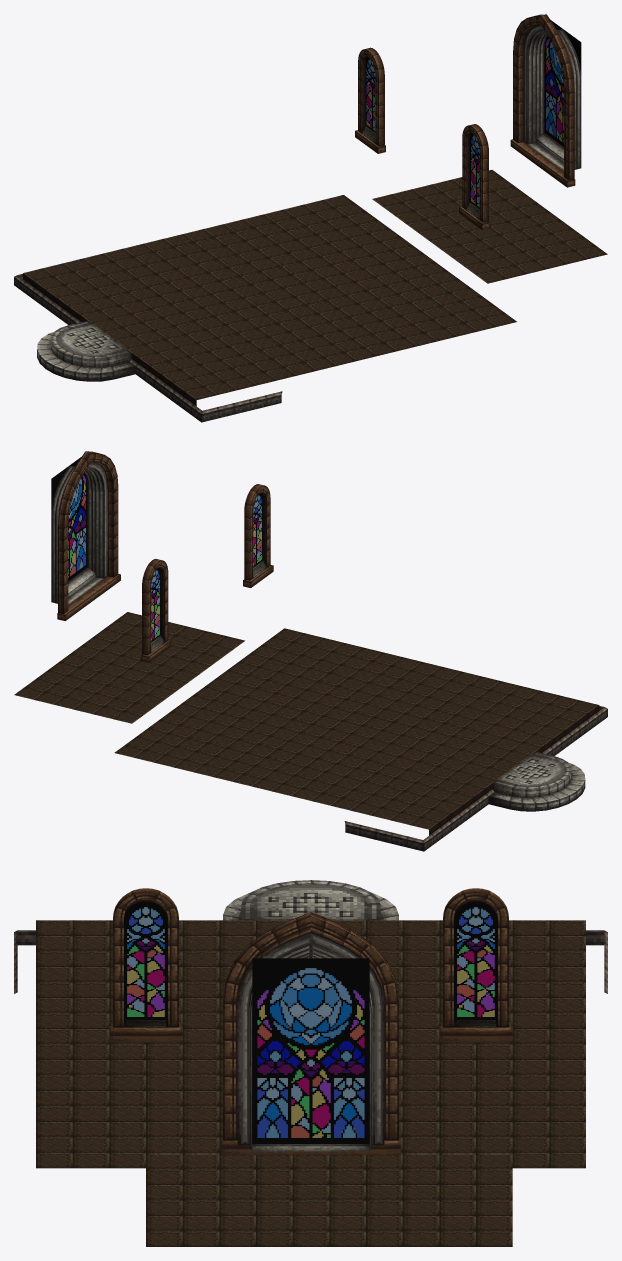
The model's file is EnvBdgMD_Church_Mount_C_Indoor_Floor.FBX.
3 views of the same model, one above another, from view 1: azimuth 30°, elevation 25°; view 2: azimuth 150°, elevation 25°; view 3: azimuth 270°, elevation 25° (orthographic). The views are drawn at different scales.
Visible parts, largest first — view 1: EnvBdgMD_Church_Mount_C_Indoor_Floor; view 2: EnvBdgMD_Church_Mount_C_Indoor_Floor; view 3: EnvBdgMD_Church_Mount_C_Indoor_Floor.
Boxes of the visible parts, <box> form: EnvBdgMD_Church_Mount_C_Indoor_Floor: <box>14,14,607,422</box>; EnvBdgMD_Church_Mount_C_Indoor_Floor: <box>14,451,607,851</box>; EnvBdgMD_Church_Mount_C_Indoor_Floor: <box>14,880,607,1246</box>.
Size of the model in its own units: 2580 by 1107 by 1620.
